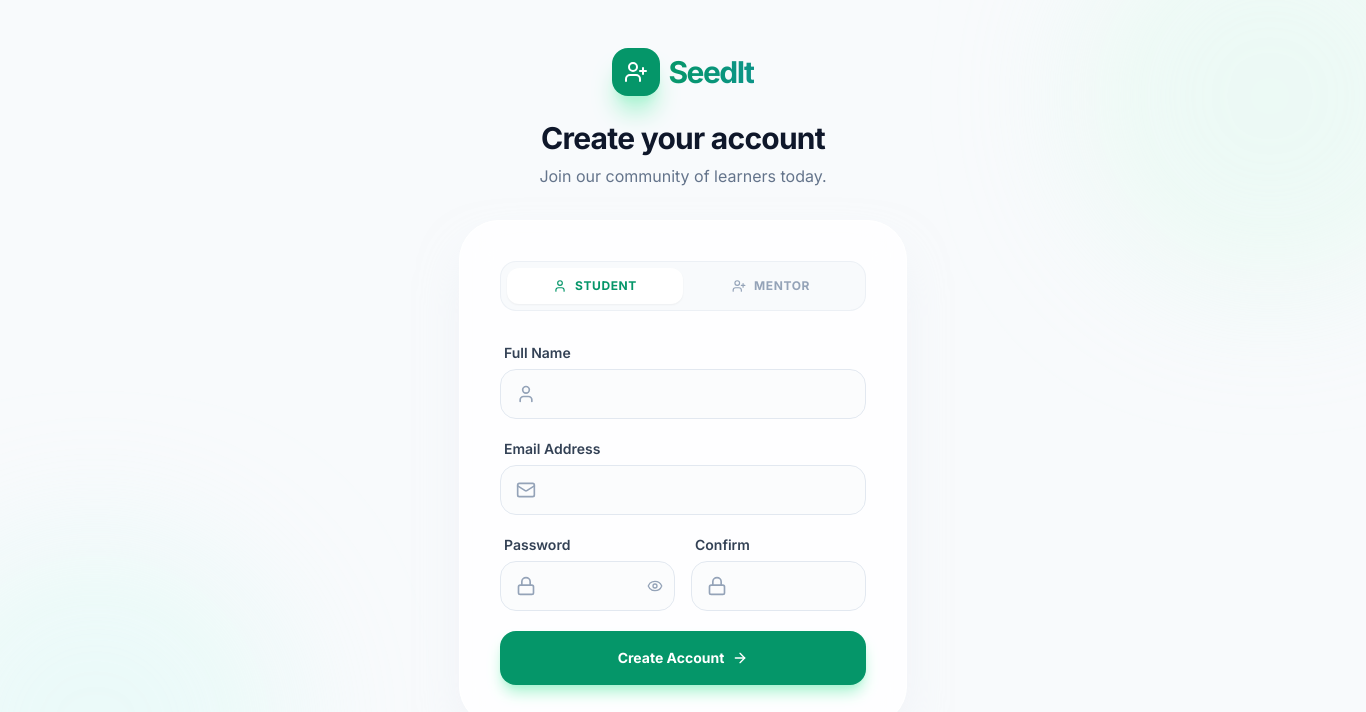
it: Register Component Integration › shows error when passwords do not match and prevents submission
The image size is (1366, 712).
# Fill form with mismatched passwords
Type "Jane Doe" into the field labelled "Full Name".
click(683, 394); type("Jane Doe")  # box x1=500 y1=369 x2=866 y2=419
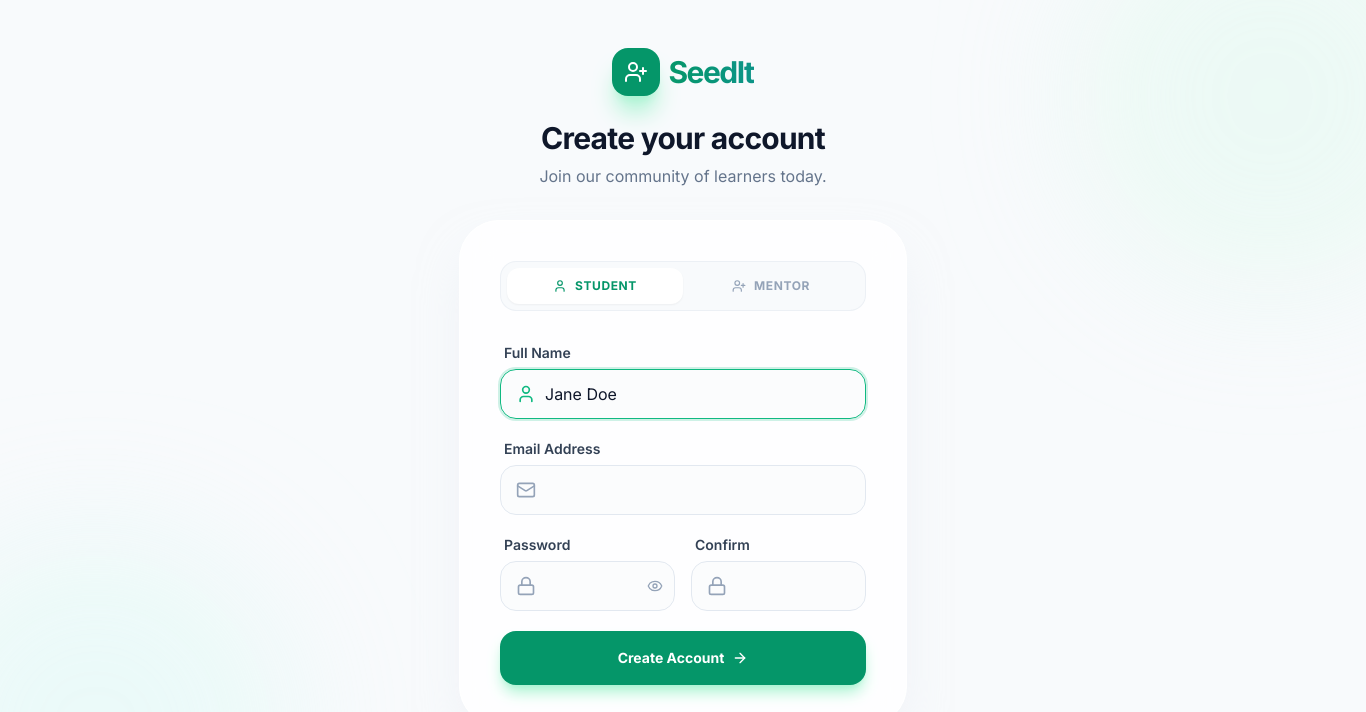
Type "jane@example.com" into the field labelled "Email Address".
click(683, 490); type("jane@example.com")  # box x1=500 y1=465 x2=866 y2=515
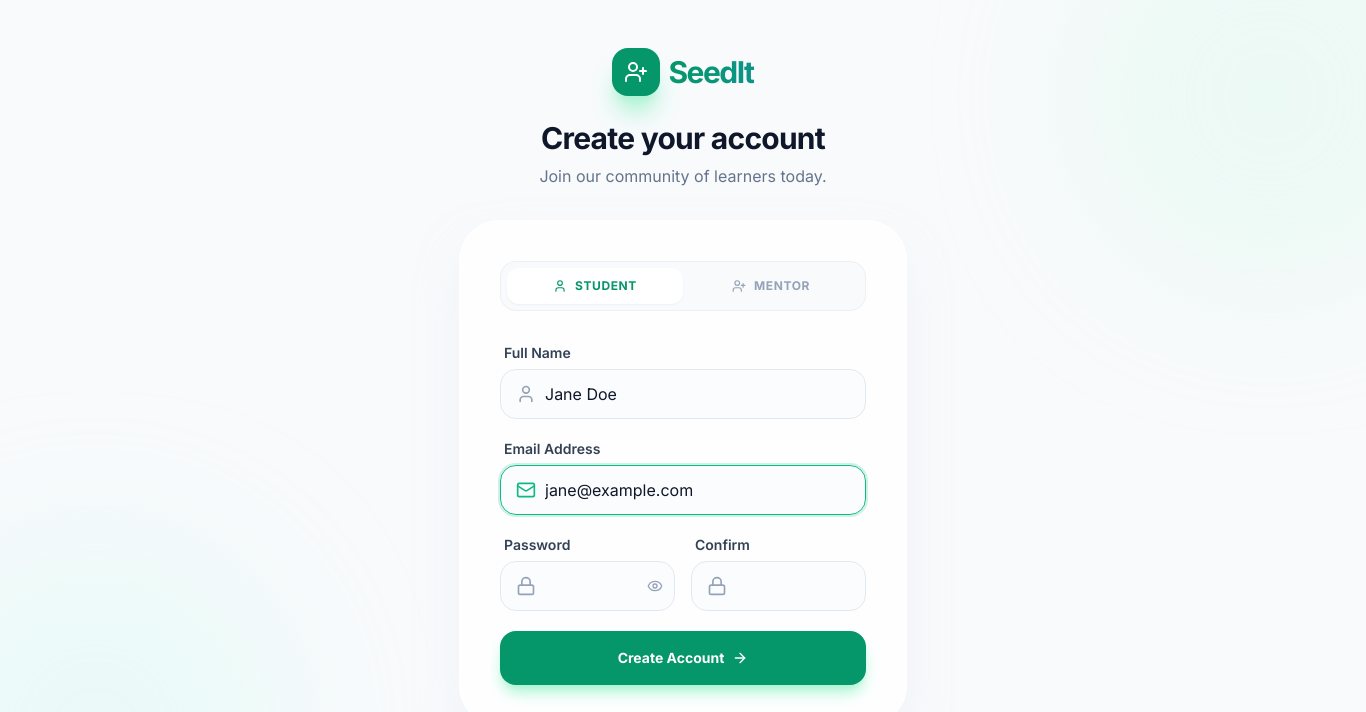
Type "password123" into the password field labelled "Password".
click(588, 586); type("password123")  # box x1=500 y1=561 x2=675 y2=611
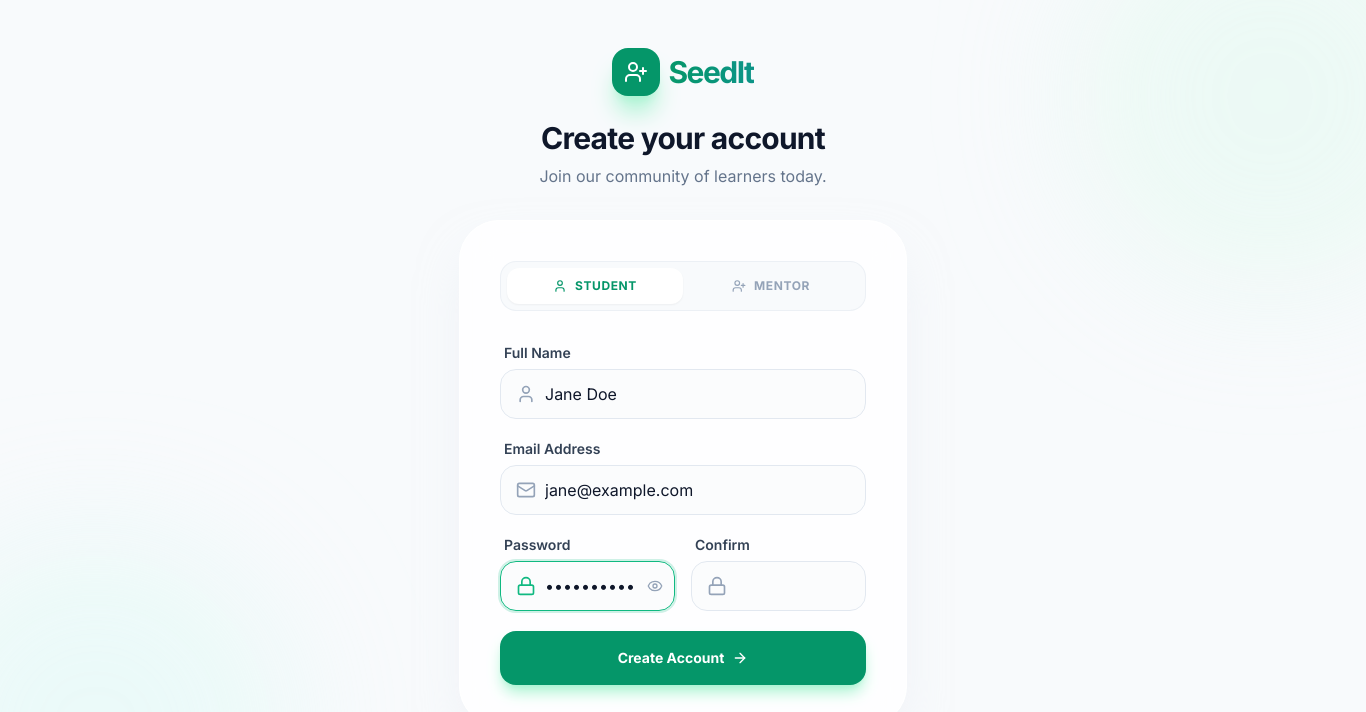
Type "password456" into the password field labelled "Confirm".
click(778, 586); type("password456")  # box x1=691 y1=561 x2=866 y2=611
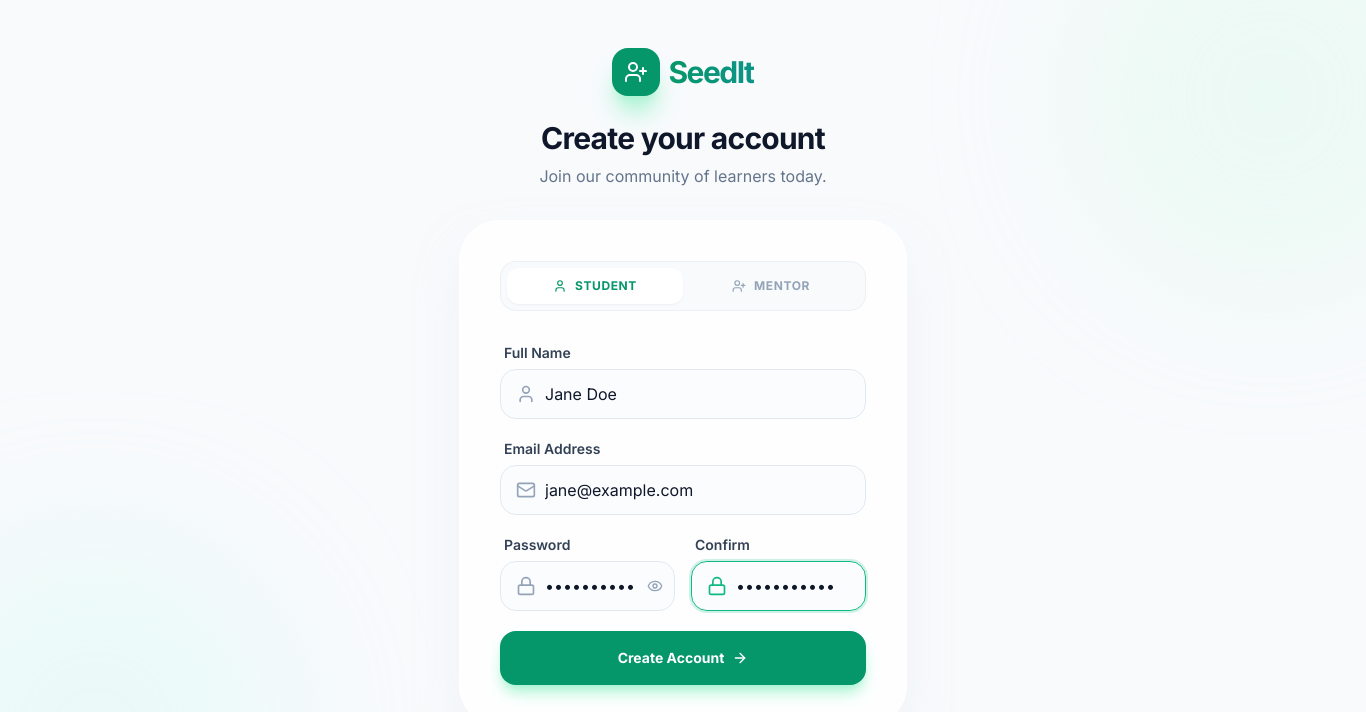
# Submit form
Click the button "Create Account".
click(683, 658)  # box x1=500 y1=631 x2=866 y2=685
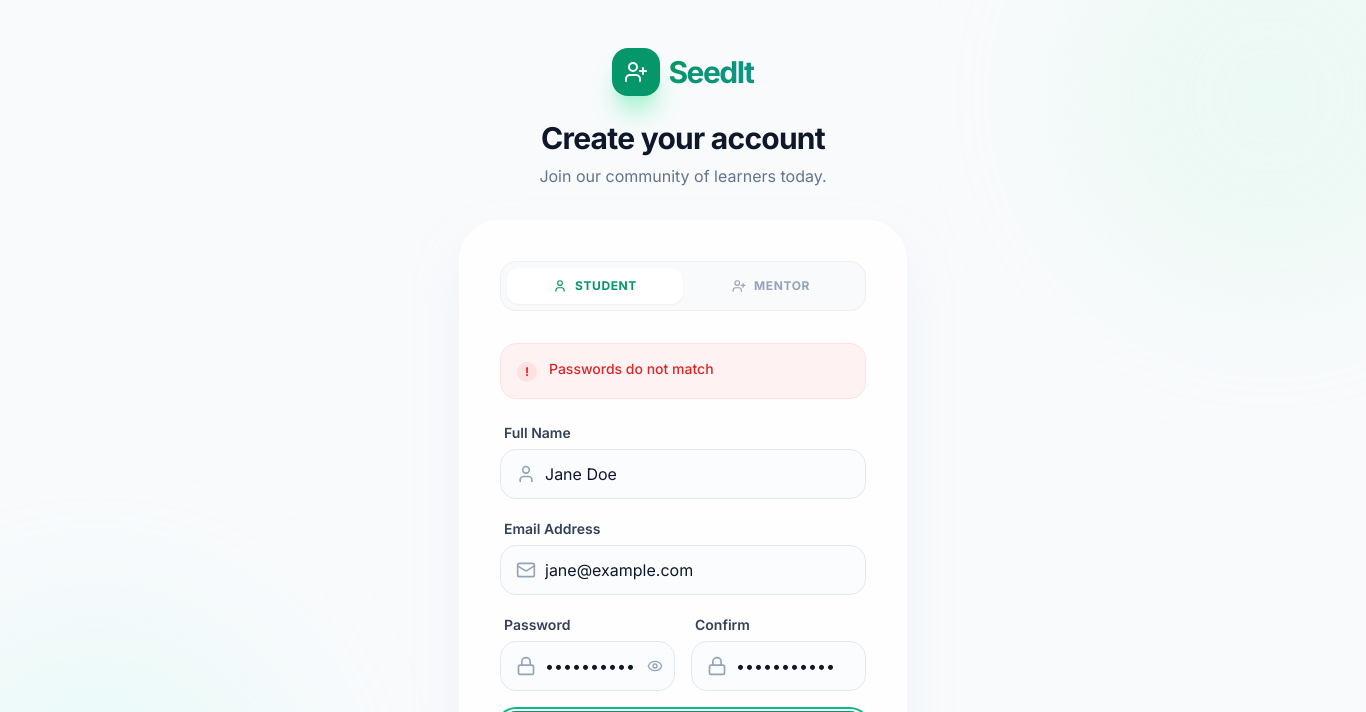
Result: the text "Passwords do not match" is shown at x1=549 y1=360 x2=714 y2=378
